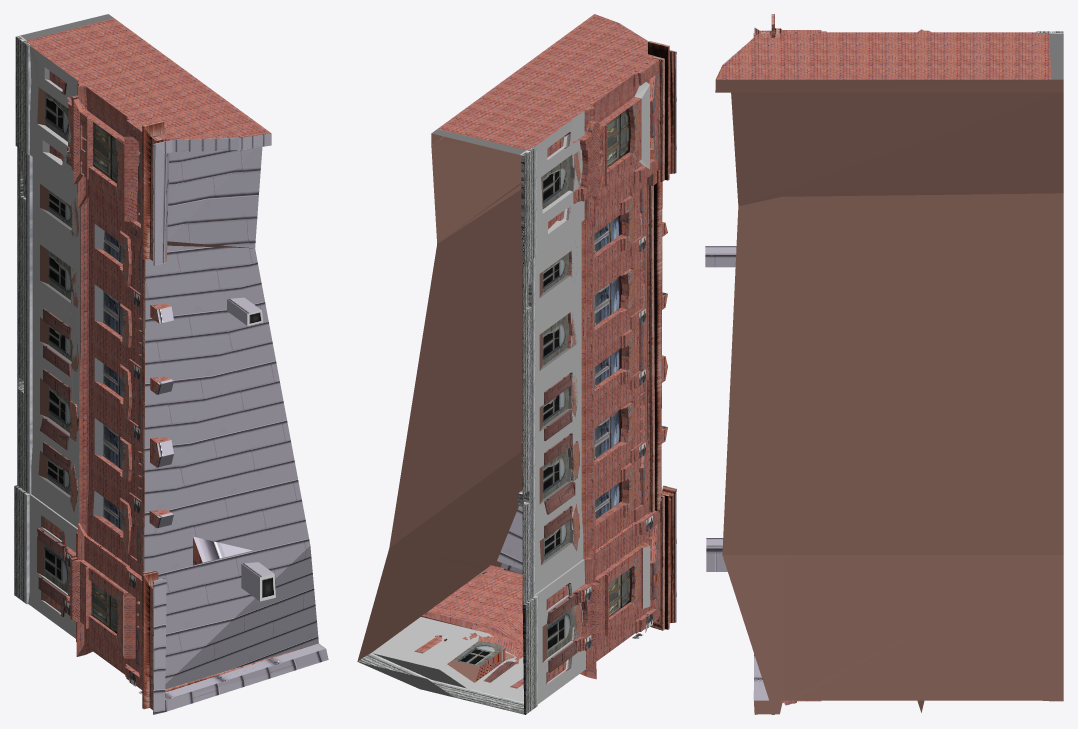
The model's file is Vene_30-origo.obj.
3 renders of one model, left to right at view 1: azimuth 30°, elevation 25°; view 2: azimuth 150°, elevation 25°; view 3: azimuth 270°, elevation 25°, orthographic. The views are drawn at different scales.
Parts seen in each view (by area): view 1: polySurface31; view 2: polySurface31; view 3: polySurface31.
Part boxes in pixels (<box>): polySurface31: <box>14,14,328,714</box>; polySurface31: <box>357,14,676,714</box>; polySurface31: <box>705,14,1063,714</box>.
Bounding box in the file's own units: 7.69 × 24 × 12.54.
